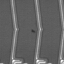dust: (31, 28, 36, 33)
